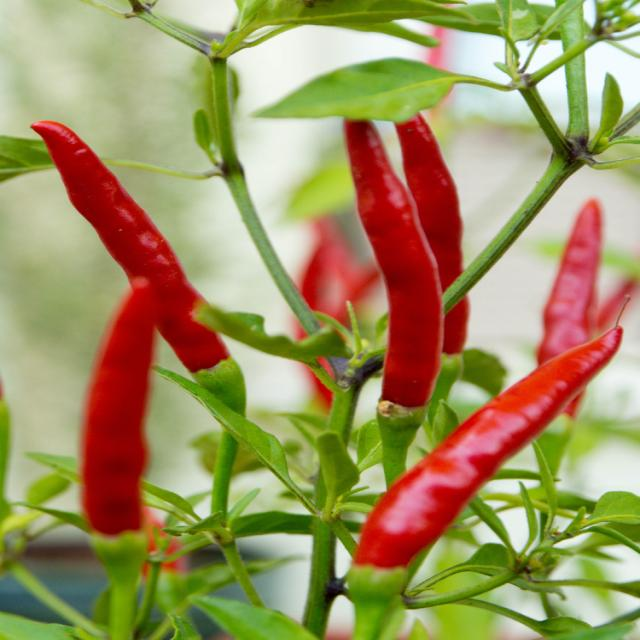Ripe: (353, 328, 621, 568), (32, 121, 228, 371), (345, 120, 443, 408), (82, 279, 155, 535), (396, 115, 469, 354), (538, 200, 602, 364)
